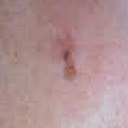Melanoma: (54, 45, 91, 89)
